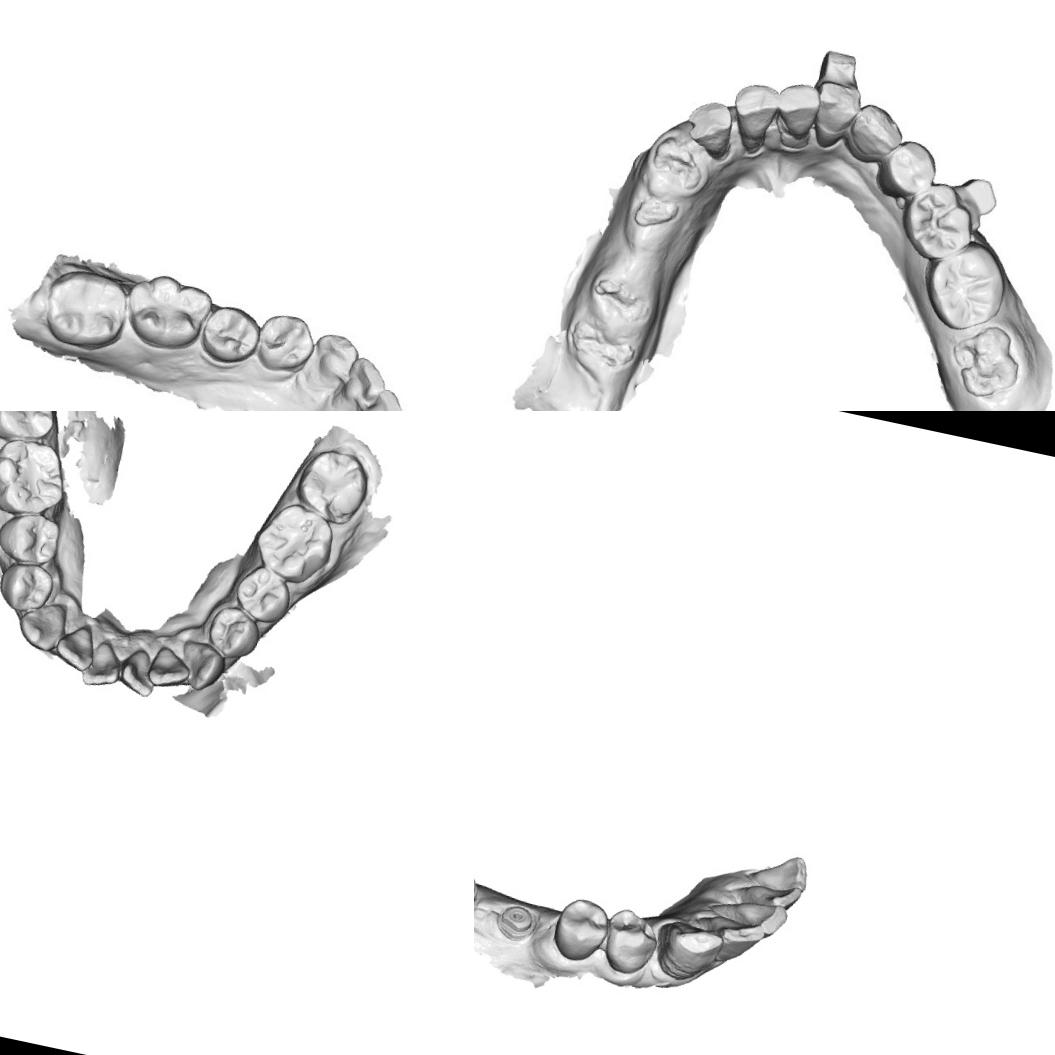canine: (652, 916, 726, 988), (842, 101, 907, 168), (12, 596, 70, 656), (172, 637, 230, 696), (308, 328, 362, 389)
implant: (492, 898, 540, 945)
incisor: (728, 82, 781, 154), (682, 98, 740, 163), (741, 844, 813, 894), (810, 81, 859, 152), (710, 912, 767, 972), (723, 894, 790, 940), (732, 874, 804, 914), (50, 618, 99, 674), (776, 82, 822, 141), (144, 642, 196, 694), (340, 356, 390, 410), (114, 644, 162, 700), (80, 636, 124, 692)
molar: (246, 496, 342, 592), (38, 262, 133, 354), (122, 267, 214, 358), (924, 240, 1010, 334), (289, 440, 376, 530), (898, 176, 980, 264), (0, 430, 74, 525), (0, 411, 65, 450)
premolar: (872, 133, 947, 204), (546, 892, 615, 968), (598, 903, 664, 980), (229, 561, 297, 629), (201, 601, 266, 665), (0, 505, 64, 569), (199, 304, 260, 370), (256, 310, 316, 372), (0, 557, 57, 617)
